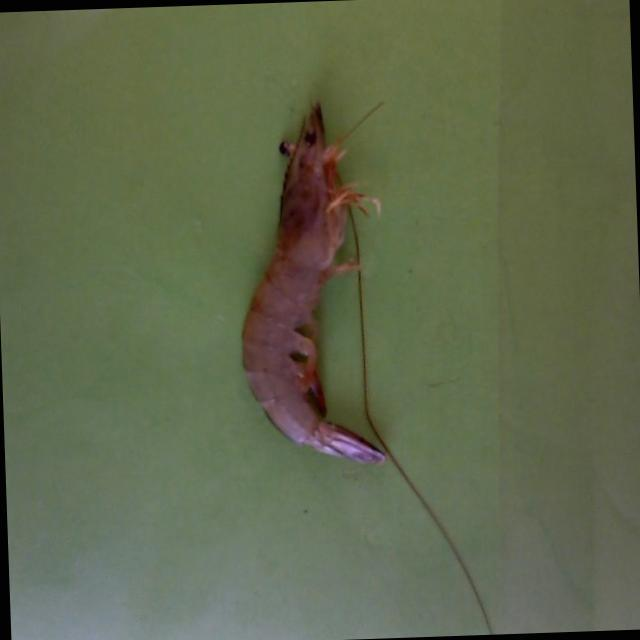shrimp: (242, 102, 386, 462)
